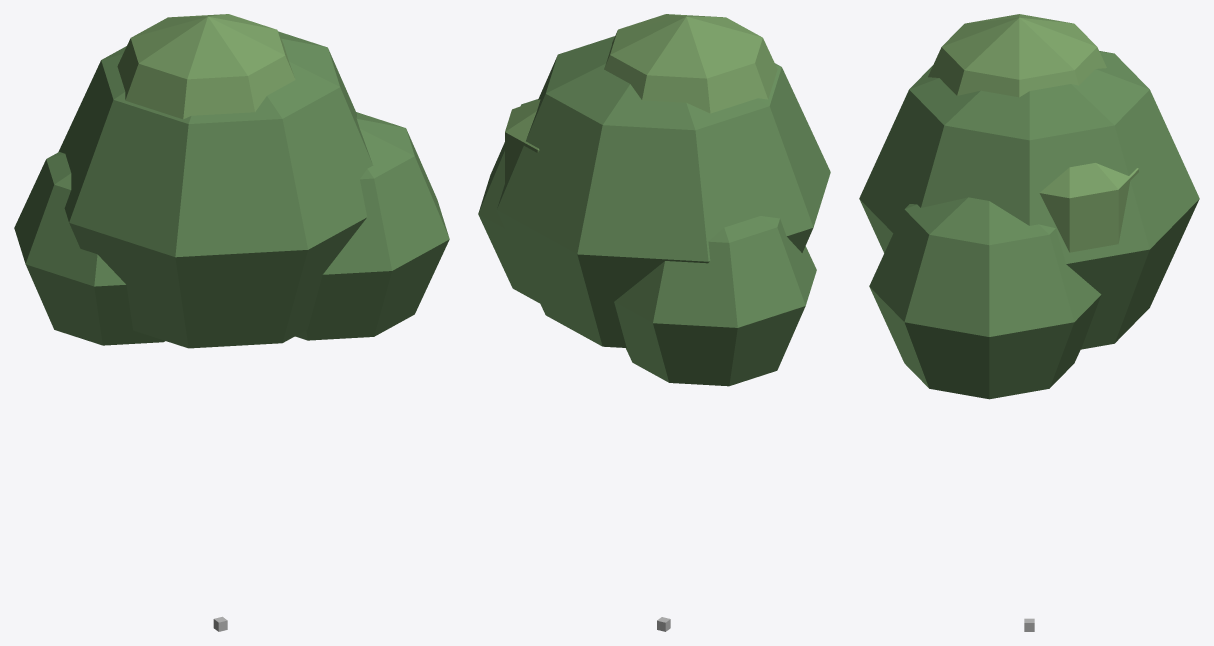
The model's file is rv_bush.gltf.
The picture shows the model from 3 angles, left to right: view 1: azimuth 30°, elevation 25°; view 2: azimuth 150°, elevation 25°; view 3: azimuth 270°, elevation 25°; orthographic projection. The views are drawn at different scales.
Parts seen in each view (by area): view 1: RV_Bush; view 2: RV_Bush; view 3: RV_Bush.
Boxes of the visible parts, x1,y1,x2,y2 form: RV_Bush: (14,14,449,631); RV_Bush: (478,14,830,631); RV_Bush: (859,14,1199,631).
Size of the model in its own units: 0.82 by 1.33 by 0.68.
